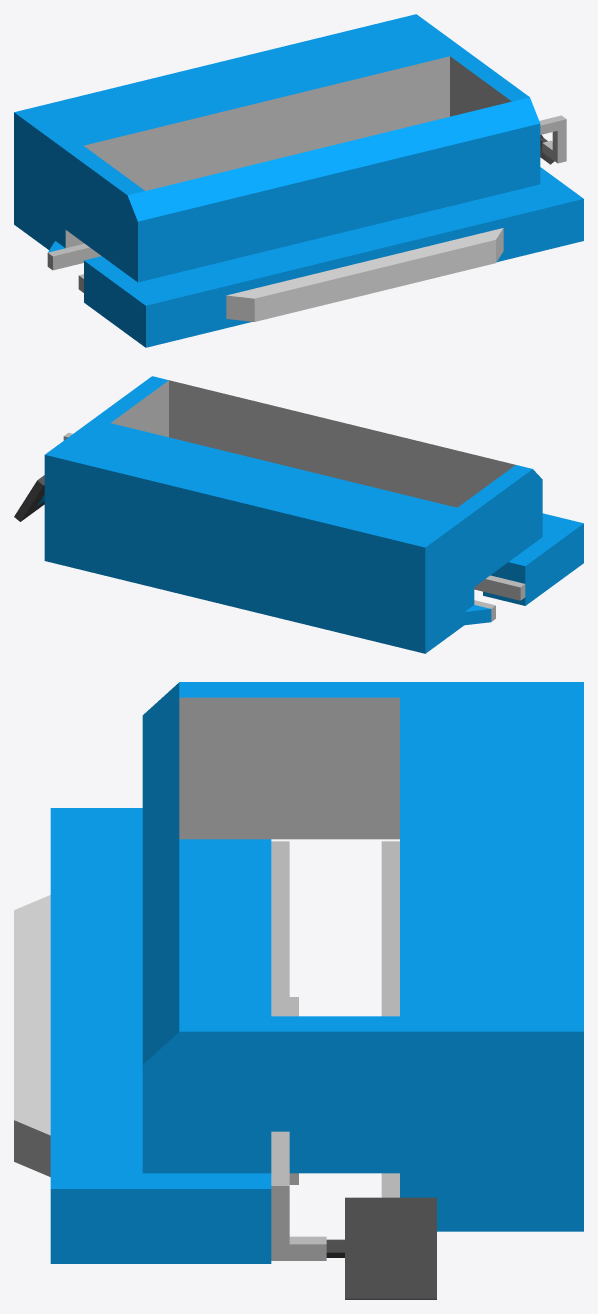
The model's file is cnc_bending_machine_3_state_1.dae.
3 views of the same model, one above another, from view 1: azimuth 30°, elevation 25°; view 2: azimuth 150°, elevation 25°; view 3: azimuth 270°, elevation 25° (orthographic). The views are drawn at different scales.
Visible parts, largest first — view 1: coords_ME_ID11_MA_material_6, coords_ME_ID53_MA_material_11, coords_ME_ID19_MA_material_8, coords_ME_ID35_MA_material_11; view 2: coords_ME_ID11_MA_material_6, coords_ME_ID53_MA_material_11, coords_ME_ID3_MA_material_11, coords_ME_ID27_MA_material; view 3: coords_ME_ID11_MA_material_6, coords_ME_ID53_MA_material_11, coords_ME_ID19_MA_material_8, coords_ME_ID27_MA_material, coords_ME_ID3_MA_material_11, coords_ME_ID35_MA_material_11.
Boxes of the visible parts, left/top/right/bottom form: coords_ME_ID11_MA_material_6: left=14, top=14, right=583, bottom=347; coords_ME_ID53_MA_material_11: left=47, top=56, right=511, bottom=270; coords_ME_ID19_MA_material_8: left=226, top=228, right=503, bottom=321; coords_ME_ID35_MA_material_11: left=539, top=115, right=566, bottom=163; coords_ME_ID11_MA_material_6: left=44, top=376, right=583, bottom=653; coords_ME_ID53_MA_material_11: left=111, top=380, right=515, bottom=621; coords_ME_ID3_MA_material_11: left=474, top=575, right=525, bottom=600; coords_ME_ID27_MA_material: left=14, top=475, right=44, bottom=521; coords_ME_ID11_MA_material_6: left=50, top=682, right=583, bottom=1263; coords_ME_ID53_MA_material_11: left=179, top=697, right=399, bottom=1197; coords_ME_ID19_MA_material_8: left=14, top=895, right=50, bottom=1176; coords_ME_ID27_MA_material: left=326, top=1197, right=436, bottom=1299; coords_ME_ID3_MA_material_11: left=271, top=841, right=298, bottom=1184; coords_ME_ID35_MA_material_11: left=271, top=1131, right=326, bottom=1260.
Bounding box in the file's own units: 73.96 × 17.4 × 41.5.
